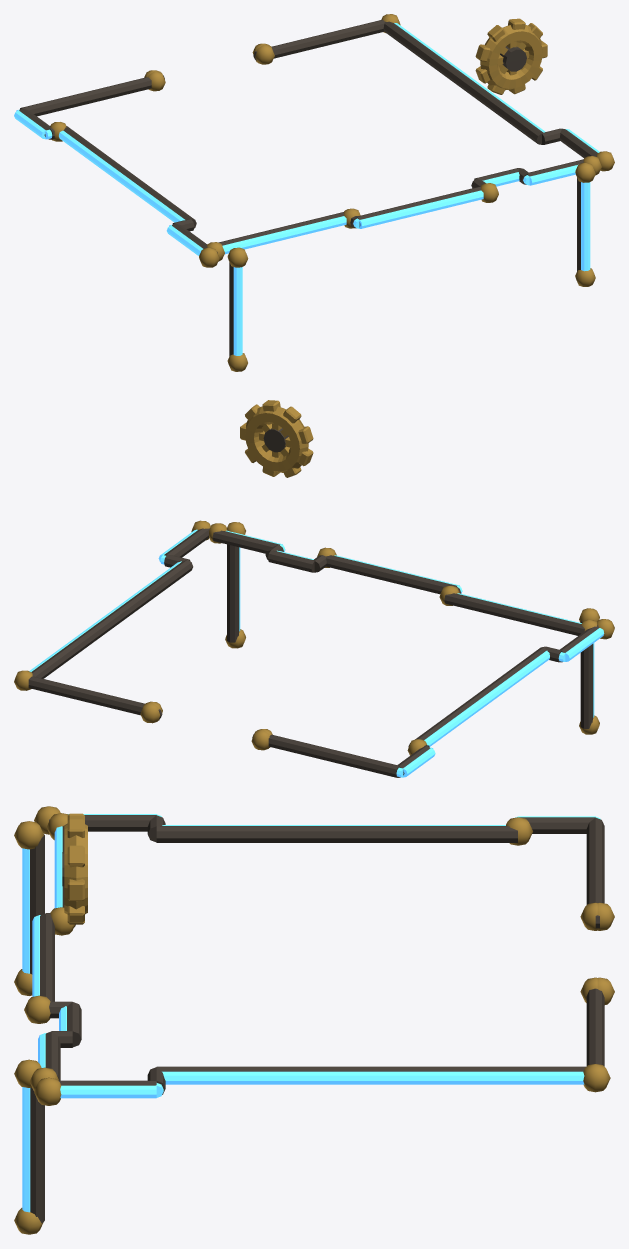
Rendered from fortin-dress.glb.
The picture shows the model from 3 angles, top to bottom: view 1: azimuth 30°, elevation 25°; view 2: azimuth 150°, elevation 25°; view 3: azimuth 270°, elevation 25°; orthographic projection. The views are drawn at different scales.
Visible parts, largest first — view 1: fortin-dress; view 2: fortin-dress; view 3: fortin-dress.
Boxes of the visible parts, left/top/right/bottom form: fortin-dress: left=14, top=14, right=614, bottom=371; fortin-dress: left=14, top=400, right=614, bottom=777; fortin-dress: left=14, top=806, right=614, bottom=1234.
Bounding box in the file's own units: 1.95 × 1.21 × 1.75.
